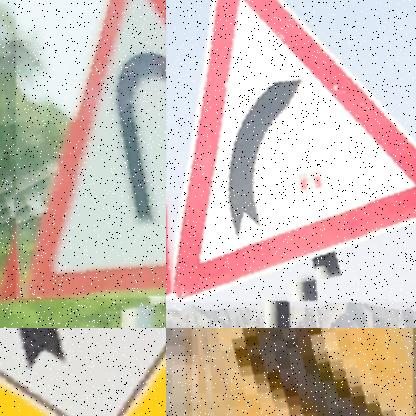Left bend: (192, 328, 412, 416)
Right bend: (167, 0, 416, 302), (0, 328, 166, 416)
